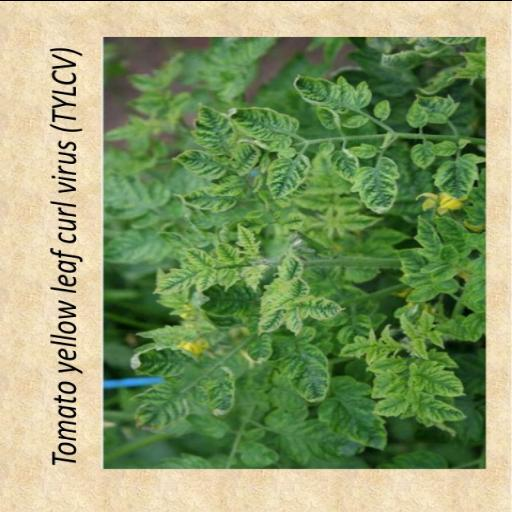disease_tomato: (310, 367, 390, 453), (270, 344, 336, 404), (232, 104, 307, 150), (346, 156, 402, 216), (294, 74, 373, 114), (128, 379, 186, 431), (128, 339, 200, 379), (171, 142, 236, 180), (266, 150, 316, 198), (188, 100, 232, 152), (434, 150, 476, 204), (178, 185, 244, 215), (290, 294, 354, 322), (414, 390, 466, 424), (204, 364, 238, 414), (415, 207, 447, 259), (370, 386, 420, 418), (412, 366, 468, 394), (154, 262, 202, 294), (272, 244, 312, 282), (255, 300, 293, 336), (404, 282, 448, 304), (180, 245, 222, 268), (407, 139, 440, 168), (234, 222, 262, 256), (368, 352, 408, 372), (188, 269, 219, 290)
